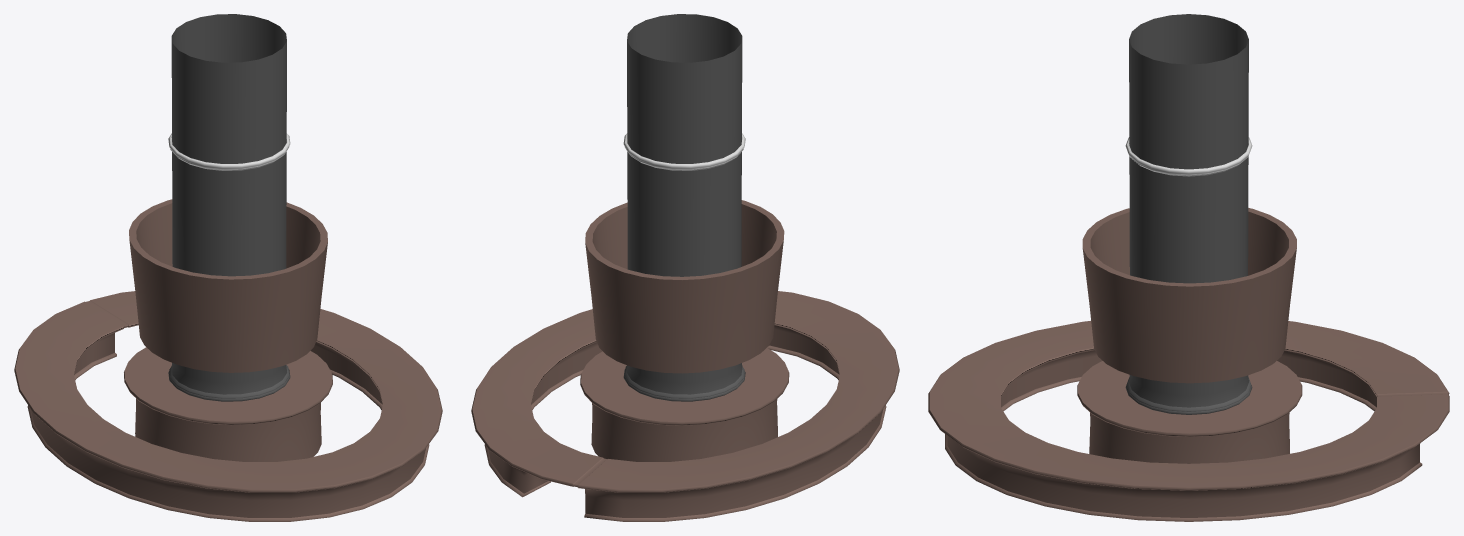
The model's file is bar_blockout 1.fbx.
3 renders of one model, left to right at view 1: azimuth 30°, elevation 25°; view 2: azimuth 150°, elevation 25°; view 3: azimuth 270°, elevation 25°, orthographic. The views are drawn at different scales.
Visible parts, largest first — view 1: bar_thing_export:bar_thing_export:bar_thing_export:pCylinder; view 2: bar_thing_export:bar_thing_export:bar_thing_export:pCylinder; view 3: bar_thing_export:bar_thing_export:bar_thing_export:pCylinder.
Part boxes in pixels (x1,y1,x2,y2): bar_thing_export:bar_thing_export:bar_thing_export:pCylinder: (14, 14, 442, 521); bar_thing_export:bar_thing_export:bar_thing_export:pCylinder: (471, 14, 899, 521); bar_thing_export:bar_thing_export:bar_thing_export:pCylinder: (928, 14, 1449, 521).
Size of the model in its own units: 10.37 by 11.48 by 13.1.
